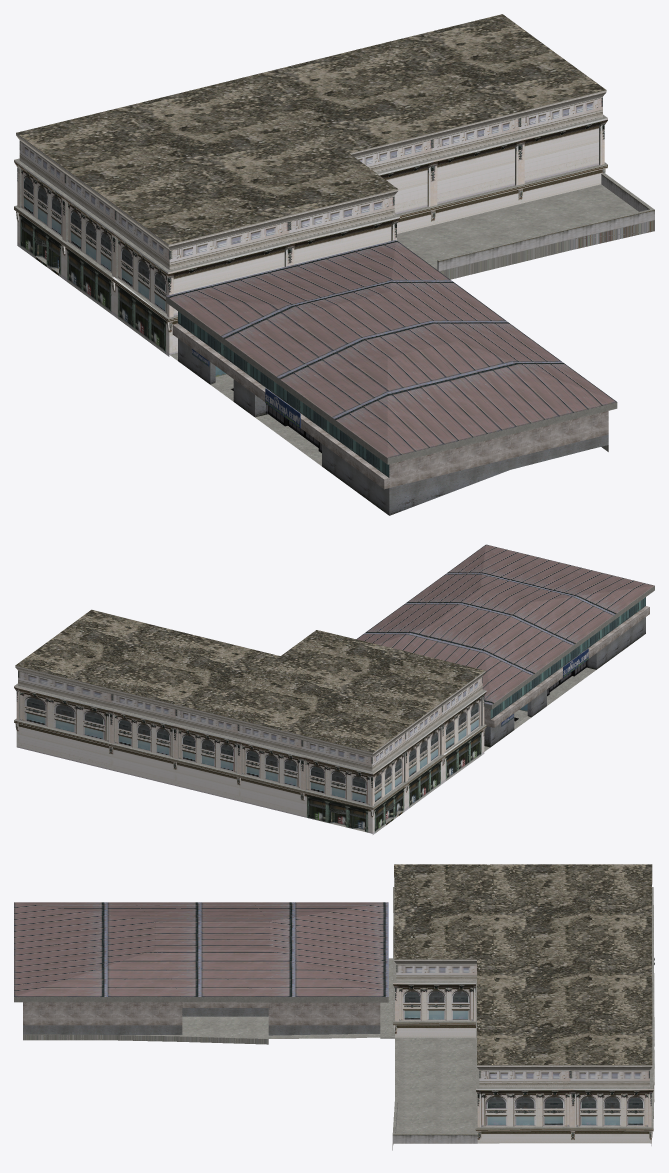
File: subshops3_sfs.obj
3 views of the same model, one above another, from view 1: azimuth 30°, elevation 25°; view 2: azimuth 150°, elevation 25°; view 3: azimuth 270°, elevation 25° (orthographic). The views are drawn at different scales.
Parts seen in each view (by area): view 1: subshops3_SFS; view 2: subshops3_SFS; view 3: subshops3_SFS.
Part boxes in pixels (left/top/right/bottom): subshops3_SFS: left=14, top=14, right=654, bottom=515; subshops3_SFS: left=14, top=544, right=654, bottom=834; subshops3_SFS: left=14, top=864, right=654, bottom=1150.
Bounding box in the file's own units: 84.72 × 18.55 × 113.
Materials: 19 (18 with a texture image).
